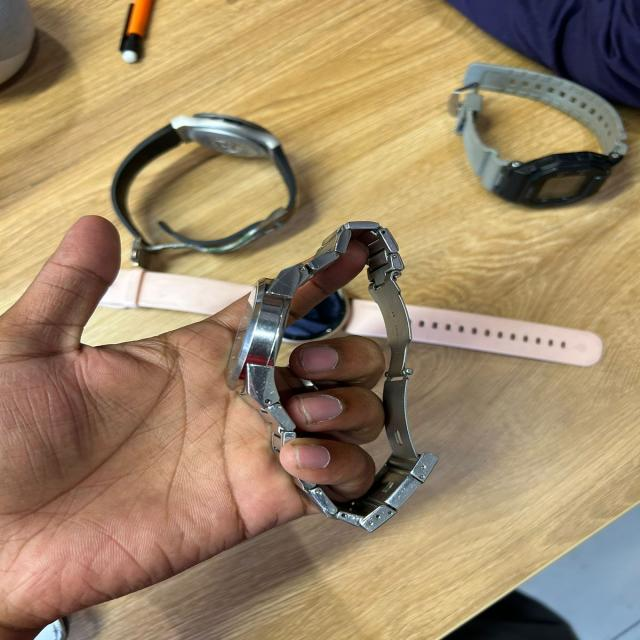watch: (223, 219, 439, 533), (447, 60, 629, 209)
